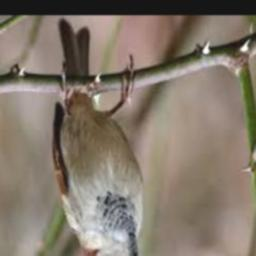Sparrow: (53, 20, 159, 256)
